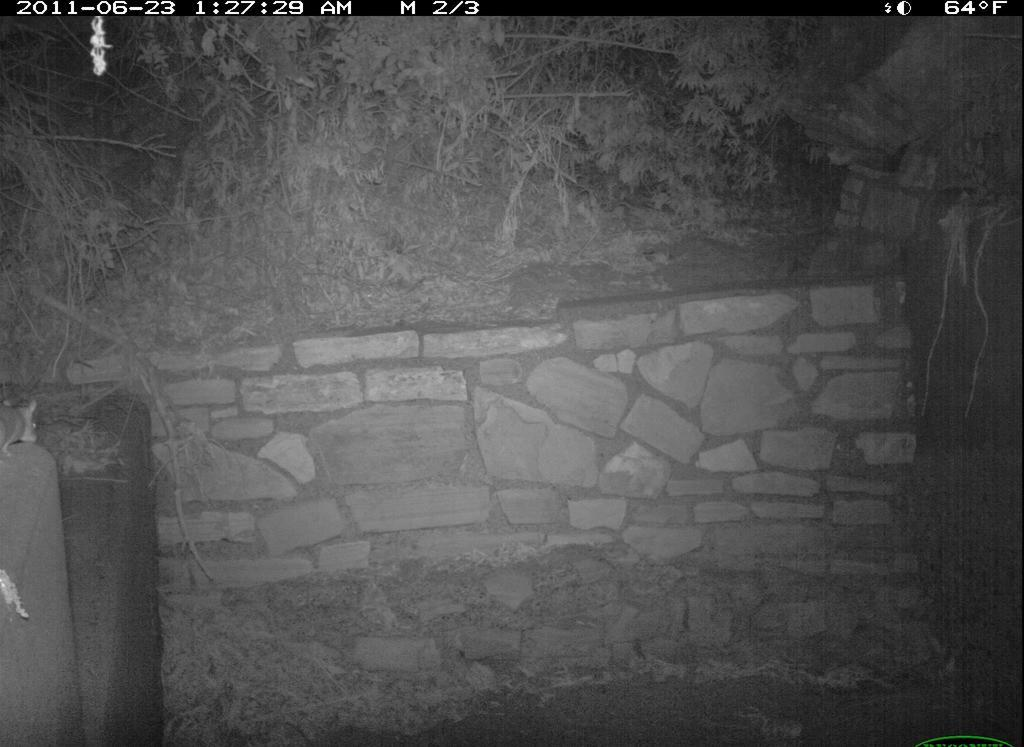rodent: (3, 387, 54, 473)
